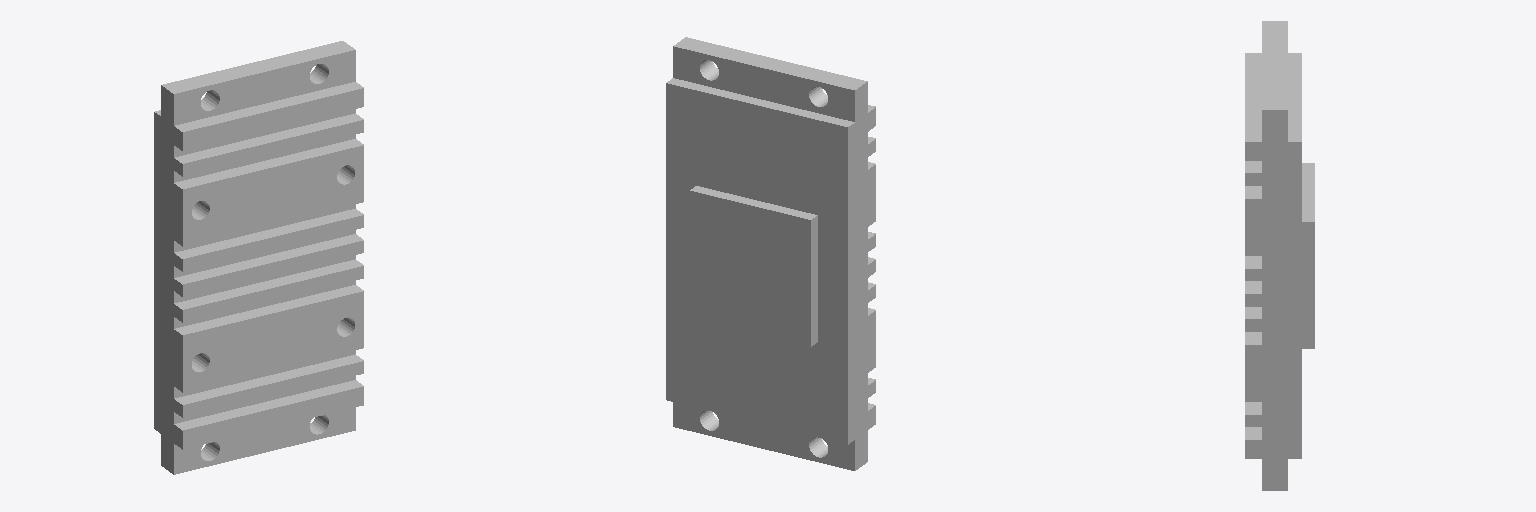
File: fpga_hs_top__rev_b0.obj
3 renders of one model, left to right at view 1: azimuth 30°, elevation 25°; view 2: azimuth 150°, elevation 25°; view 3: azimuth 270°, elevation 25°, orthographic.
Visible parts, largest first — view 1: Mesh1 Model; view 2: Mesh1 Model; view 3: Mesh1 Model.
Part boxes in pixels (x1,y1,x2,y2): Mesh1 Model: (154, 41, 363, 474); Mesh1 Model: (666, 37, 875, 470); Mesh1 Model: (1245, 21, 1314, 490).
Size of the model in its own units: 30 by 60 by 10.